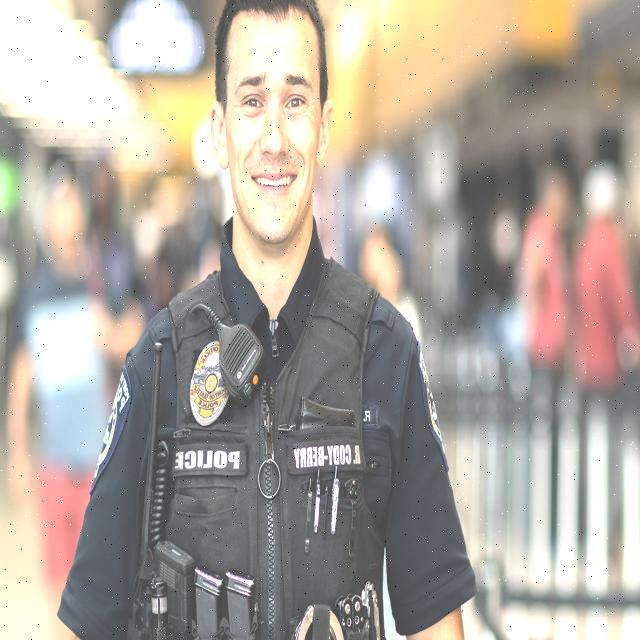police: (41, 0, 456, 640)
